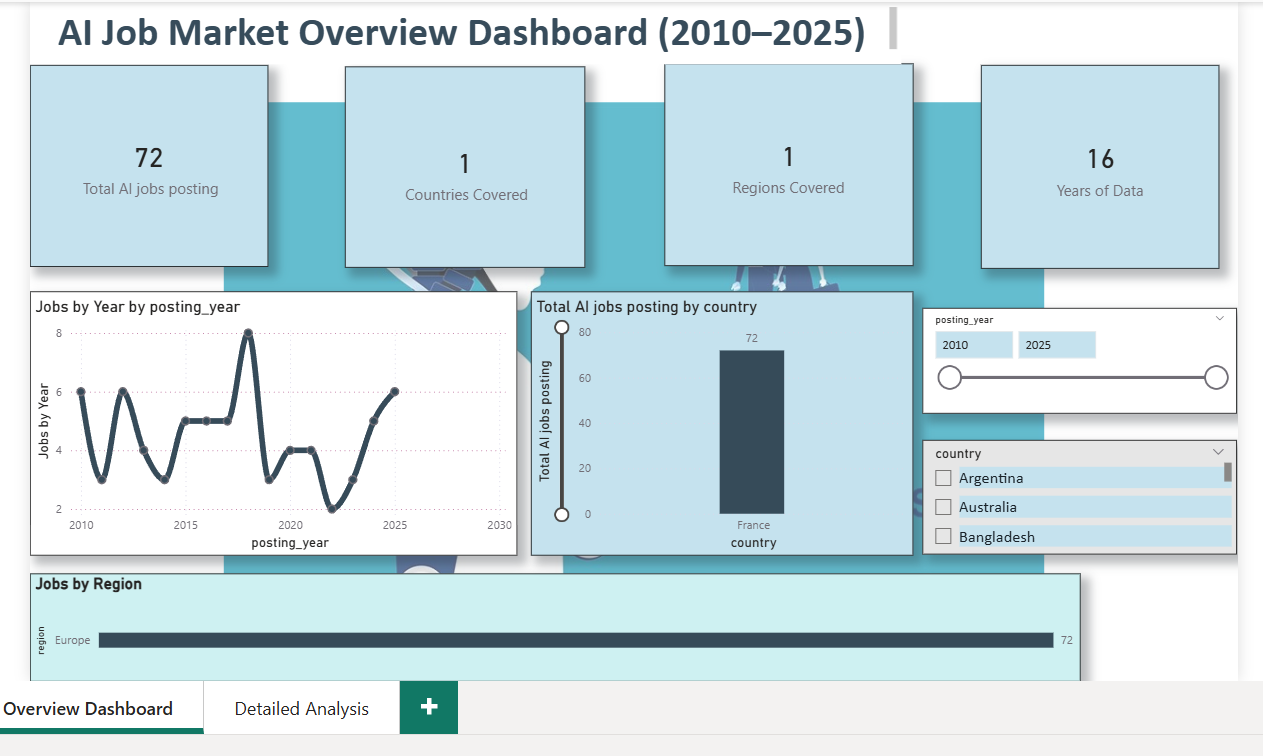

This screenshot's page, from the dashboard's own definition file:
{"tool":"powerbi","page":{"name":"Overview Dashboard ","canvas":[1280,720],"ordinal":0},"visuals":[{"type":"lineChart","fields":{"Category":["ai_impact_jobs_2010_2025.posting_year"],"Y":["ai_impact_jobs_2010_2025.Jobs by Year"]},"box":[0,306.7,516.7,280],"z":0},{"type":"clusteredBarChart","title":"Jobs by Region ","fields":{"Category":["ai_impact_jobs_2010_2025.region"],"Y":["ai_impact_jobs_2010_2025.Total Jobs"]},"box":[0,605.6,1114,115],"z":1000},{"type":"clusteredColumnChart","fields":{"Category":["ai_impact_jobs_2010_2025.country"],"Y":["ai_impact_jobs_2010_2025.Total Jobs"]},"box":[531.7,306.7,405,280],"z":2000},{"type":"slicer","fields":{"Values":["ai_impact_jobs_2010_2025.posting_year"]},"box":[945.6,323.8,333.6,111.7],"z":3000},{"type":"slicer","fields":{"Values":["ai_impact_jobs_2010_2025.country"]},"box":[945.6,464.7,333.6,121.4],"z":4000},{"type":"card","fields":{"Values":["ai_impact_jobs_2010_2025.Distinct Countries"]},"box":[334,68.4,254.5,213.1],"z":5000},{"type":"card","fields":{"Values":["ai_impact_jobs_2010_2025.Total Jobs"]},"box":[0,66.4,252.6,213.7],"z":6000},{"type":"card","fields":{"Values":["ai_impact_jobs_2010_2025.Total Years"]},"box":[1008.4,66.8,252.9,216.3],"z":7000},{"type":"card","fields":{"Values":["ai_impact_jobs_2010_2025.Distinct Regions"]},"box":[672.8,65.2,264,214.7],"z":8000},{"type":"textbox","box":[0,0,924,66],"z":9000}]}

Visuals, with their boxes in screenshot pixels (x1, y1, x2, y2):
lineChart - ai_impact_jobs_2010_2025.posting_year x ai_impact_jobs_2010_2025.Jobs by Year: [30, 288, 515, 551]
"Jobs by Region " clusteredBarChart: [30, 568, 1075, 676]
clusteredColumnChart - ai_impact_jobs_2010_2025.country x ai_impact_jobs_2010_2025.Total Jobs: [529, 288, 909, 551]
slicer - ai_impact_jobs_2010_2025.posting_year: [917, 304, 1230, 409]
slicer - ai_impact_jobs_2010_2025.country: [917, 436, 1230, 550]
card - ai_impact_jobs_2010_2025.Distinct Countries: [343, 64, 582, 264]
card - ai_impact_jobs_2010_2025.Total Jobs: [30, 62, 267, 263]
card - ai_impact_jobs_2010_2025.Total Years: [976, 63, 1213, 266]
card - ai_impact_jobs_2010_2025.Distinct Regions: [661, 61, 909, 263]
textbox: [30, 0, 897, 62]
